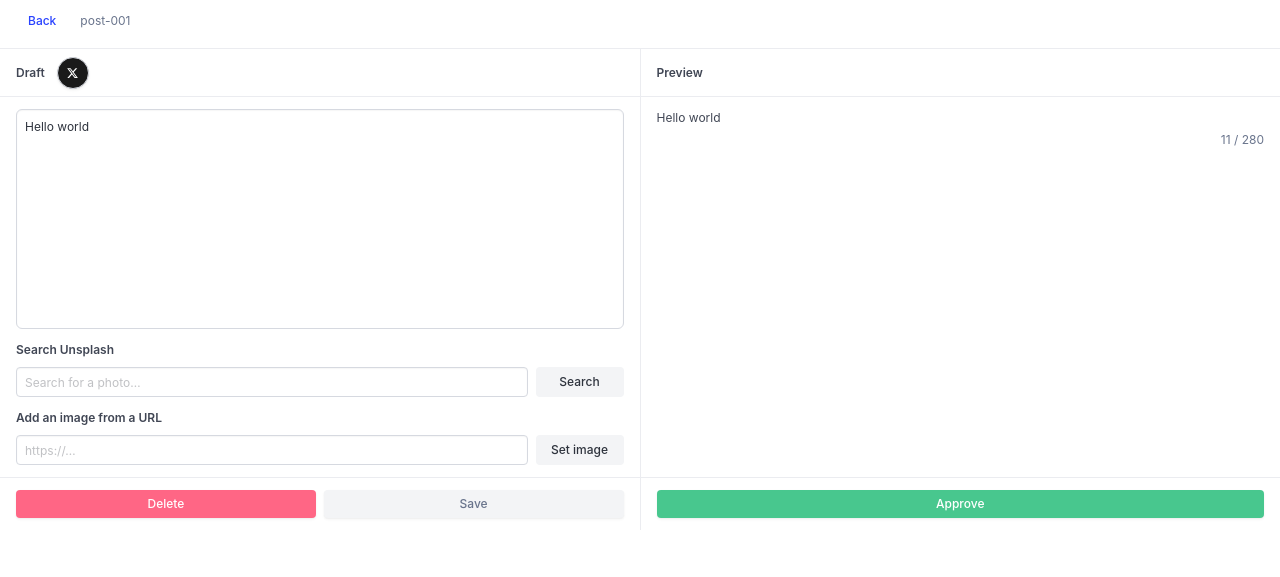
Test case: EditPostView — Unsplash URL blocking in custom URL field › shows blocking message when images.unsplash.com URL is typed
The width and height of the screenshot is (1280, 577).
In the field named "add an image from a url": coordinates (272, 450) [16,435,528,465], type "https://images.unsplash.com/photo-abc"
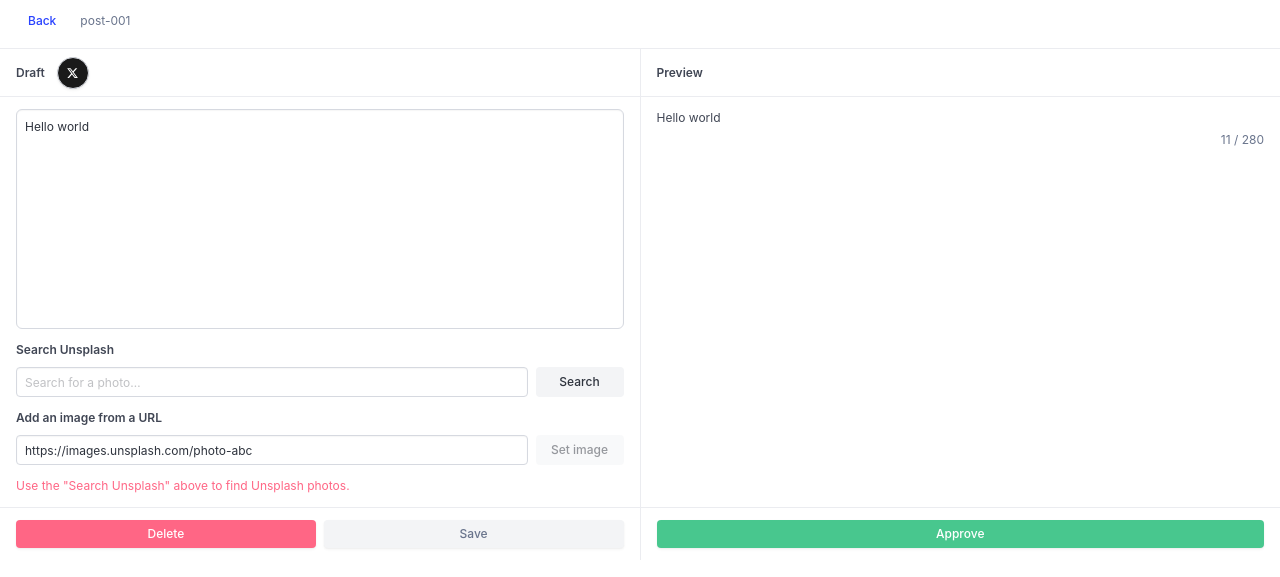
expect the text "Use the \"Search Unsplash\" above to find Unsplash photos." is shown: met, box [16,478,350,493]
